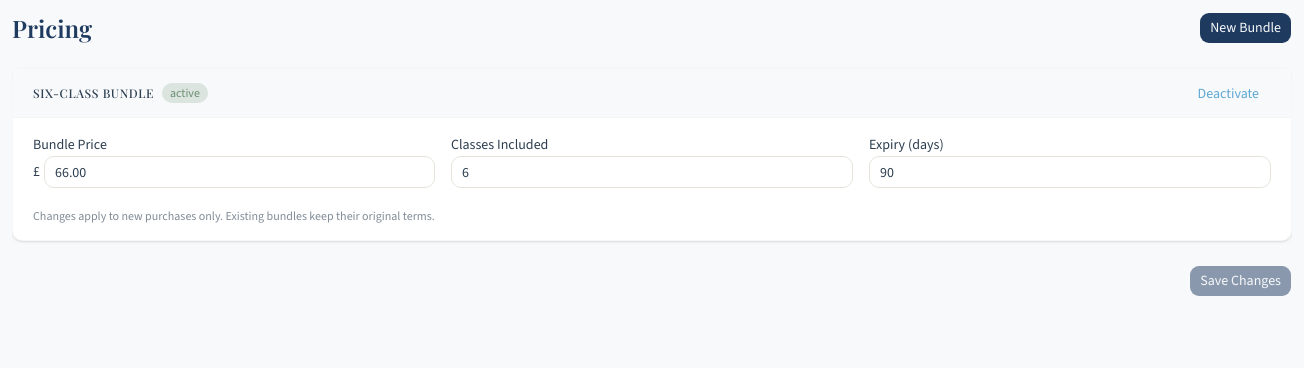
/admin/pricing › leaves Save usable after a failure that is not JSON
The width and height of the screenshot is (1304, 368).
Replace the text in the field showing "66.00" with "72.00". click: (240, 172)
box: [44,156,435,188]
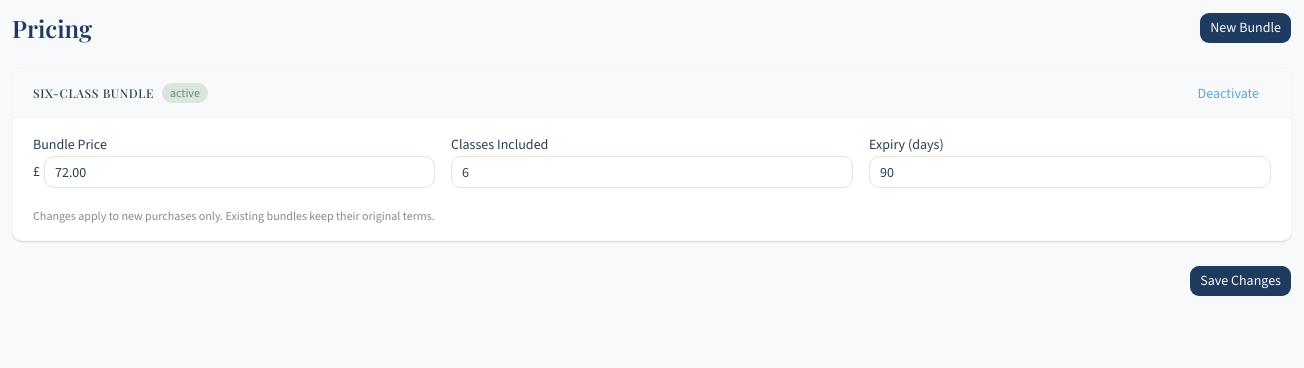
Click the button "Save Changes". click: (1241, 281)
box: [1189,265,1292,297]
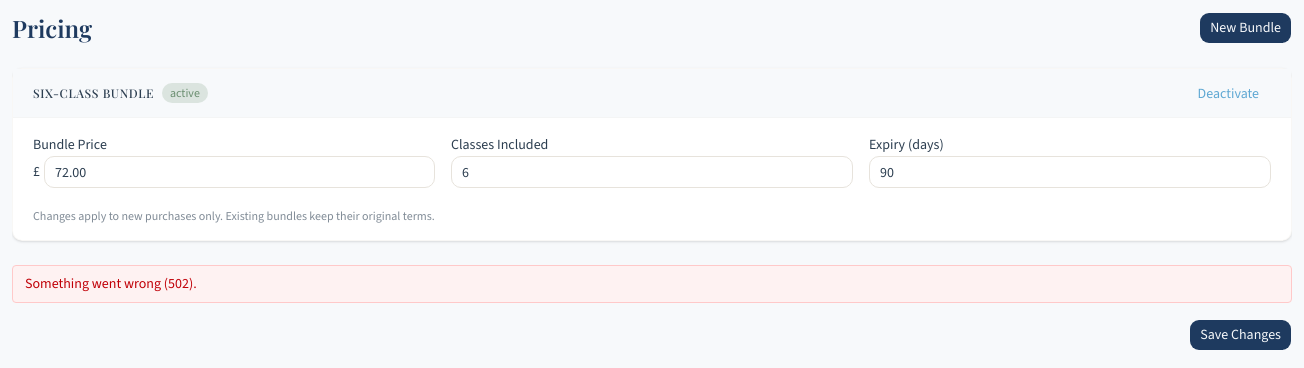
Check: the button "Save Changes" is enabled, box [1189,319,1292,351]
Check: the message reads "Something went wrong (502).", box [25,274,197,293]
